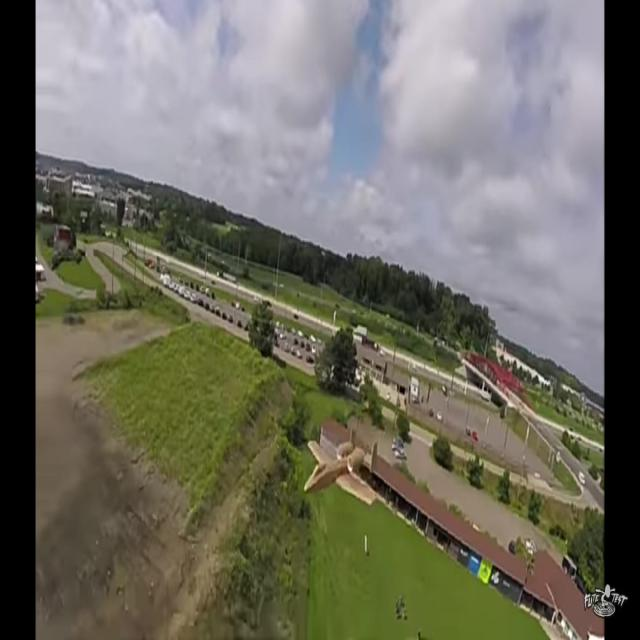iha: (335, 473, 347, 475)
